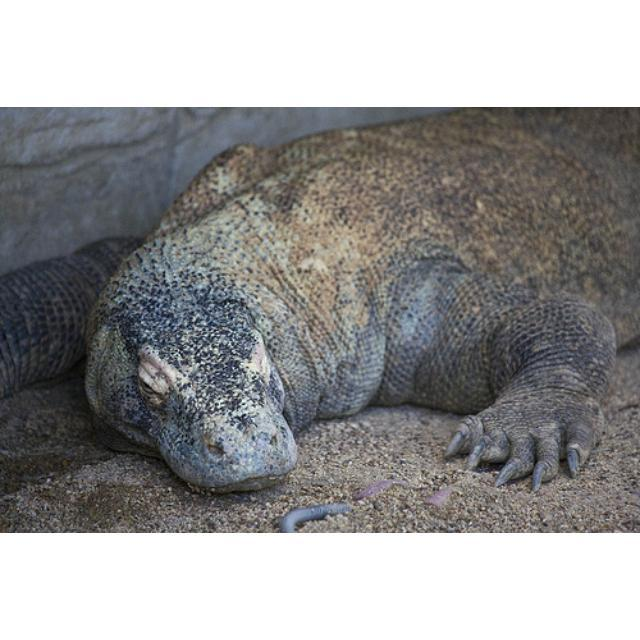KomodoDragon: (1, 108, 638, 492)
